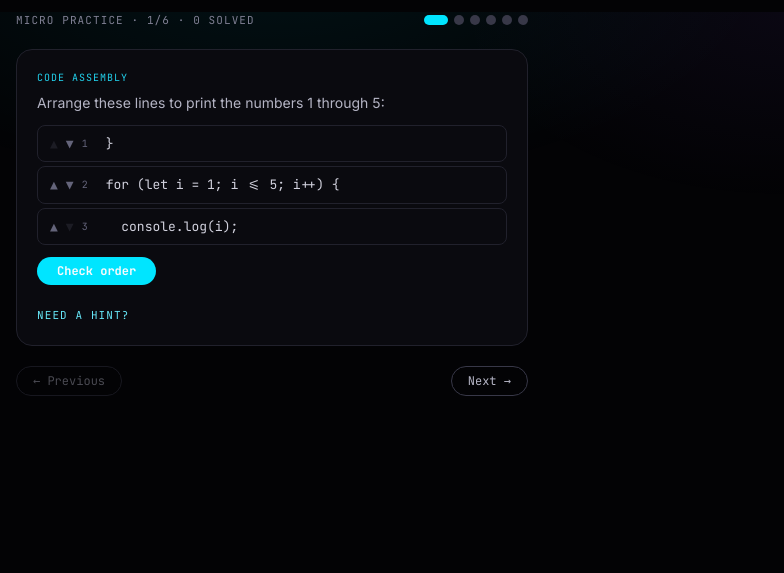
it: quick practice › names the first line out of place, then confirms the fix
Click the button "▲" in the row of "console.log(i);" at point(54, 226), box left=50, top=216, right=58, bottom=236
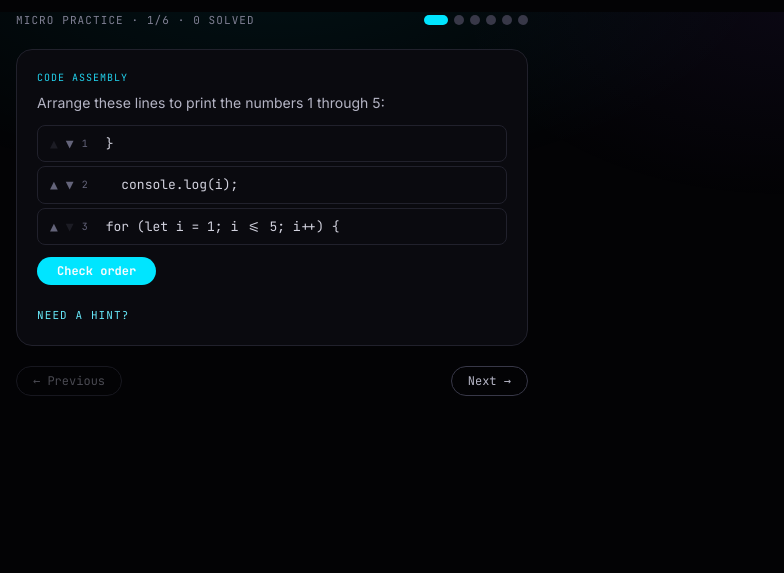
Click the button "▲" in the row of "console.log(i);" at point(54, 185), box left=50, top=175, right=58, bottom=194
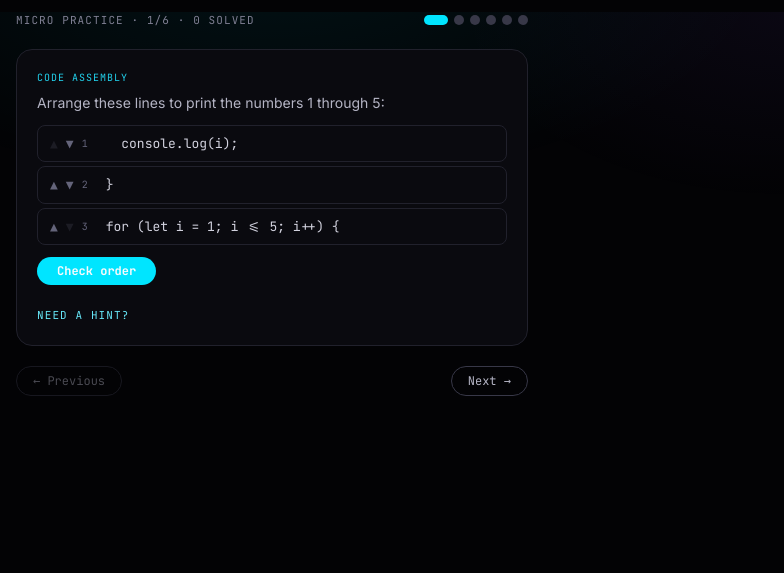
Click the button "▲" in the row of "for (let i = 1; i <= 5; i++) {" at point(54, 226), box left=50, top=216, right=58, bottom=236
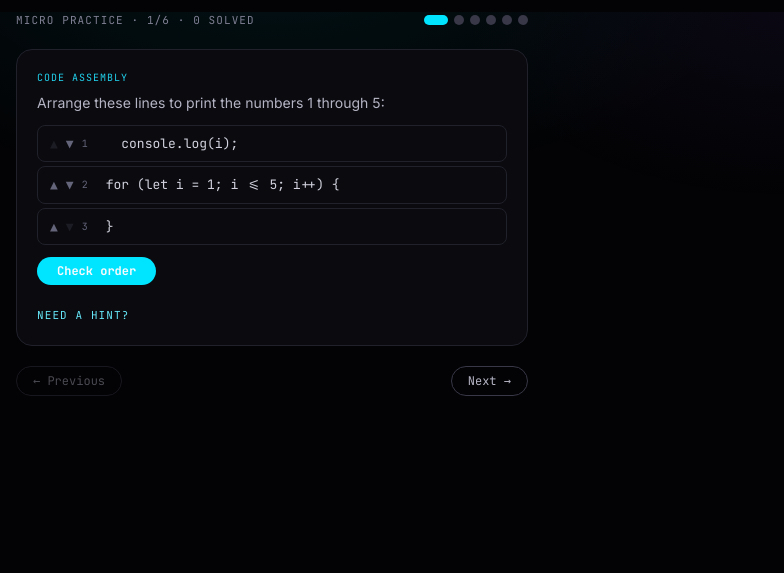
Click the button "Check order" at point(97, 271), box left=37, top=257, right=156, bottom=285
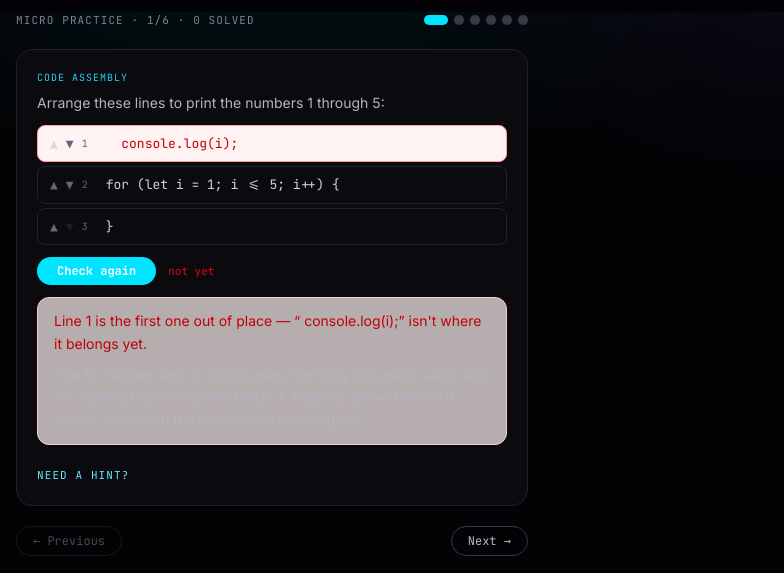
expect the text "✓ correct" is not shown: met
expect the text "Line 1 is the first one out of place" is shown: met, box left=54, top=310, right=490, bottom=356
Click the button "▲" in the row of "for (let i = 1; i <= 5; i++) {" at point(54, 185), box left=50, top=175, right=58, bottom=194
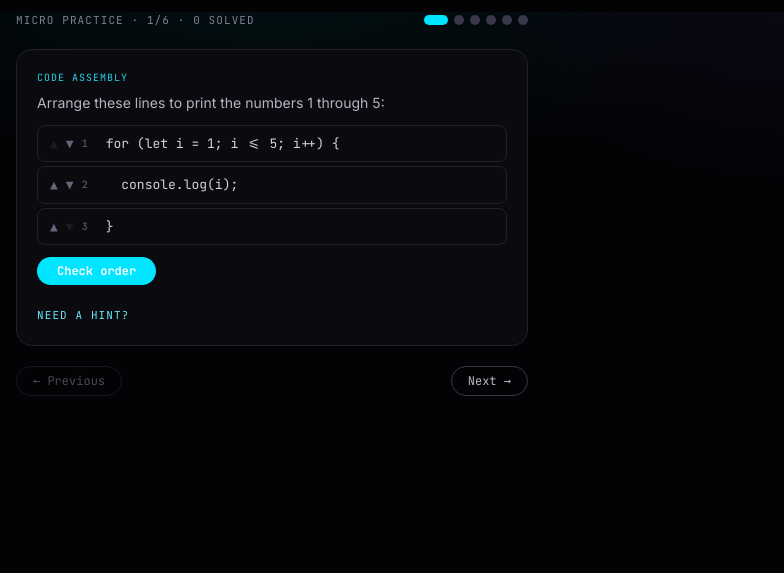
Click the button "Check order" at point(97, 271), box left=37, top=257, right=156, bottom=285
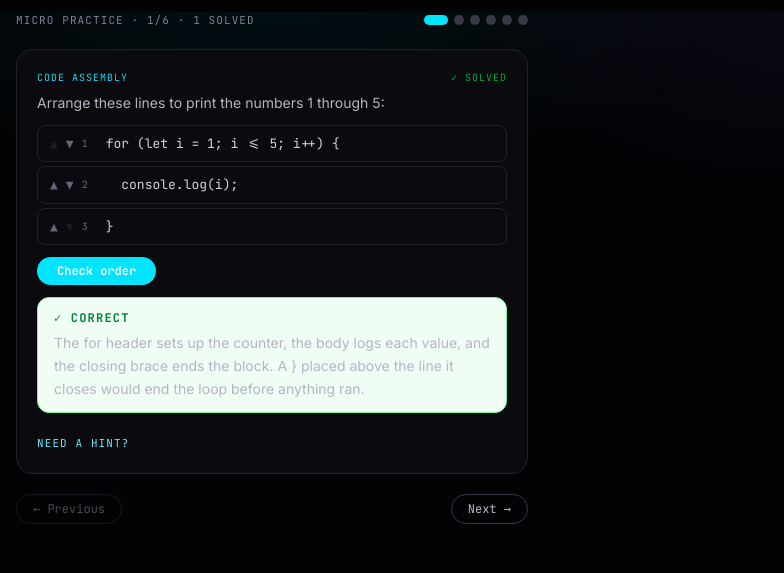
expect the text "✓ correct" is shown: met, box left=54, top=310, right=130, bottom=326
expect the text "The for header sets up the counter" is shown: met, box left=54, top=334, right=490, bottom=396
expect the text "micro practice · 1/6 · 1 solved" is shown: met, box left=16, top=12, right=255, bottom=28
